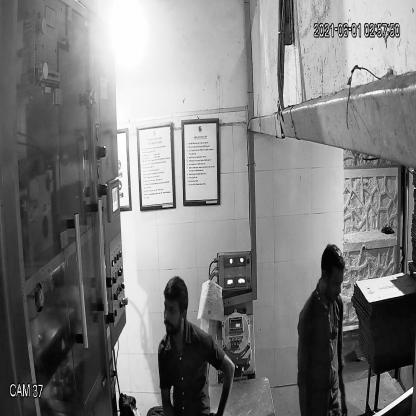no_goggles: (161, 299, 190, 321)
